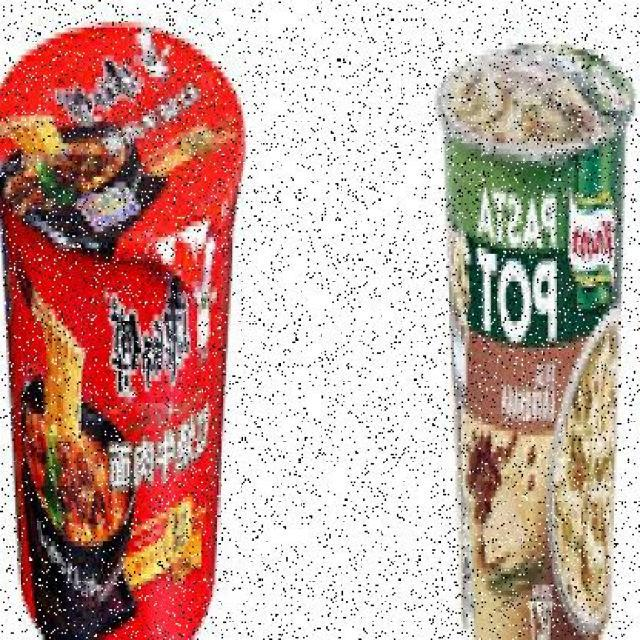Miscellaneous: (0, 21, 240, 638), (436, 38, 633, 640)
